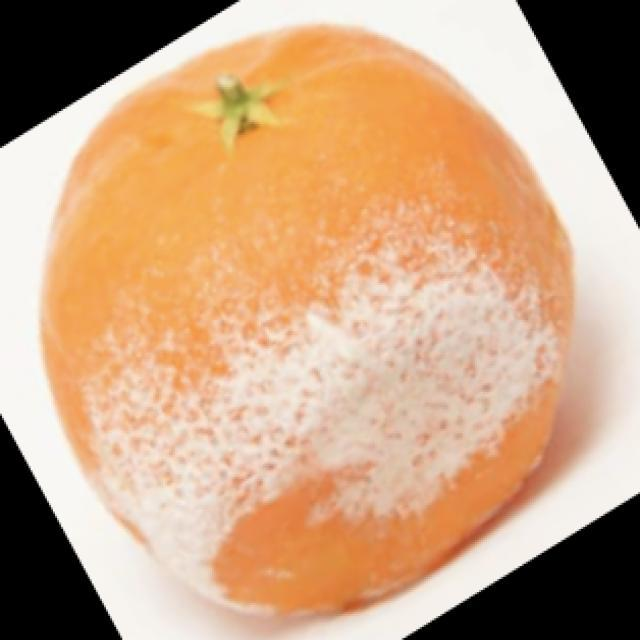sedikit-busuk: (42, 27, 572, 613)
